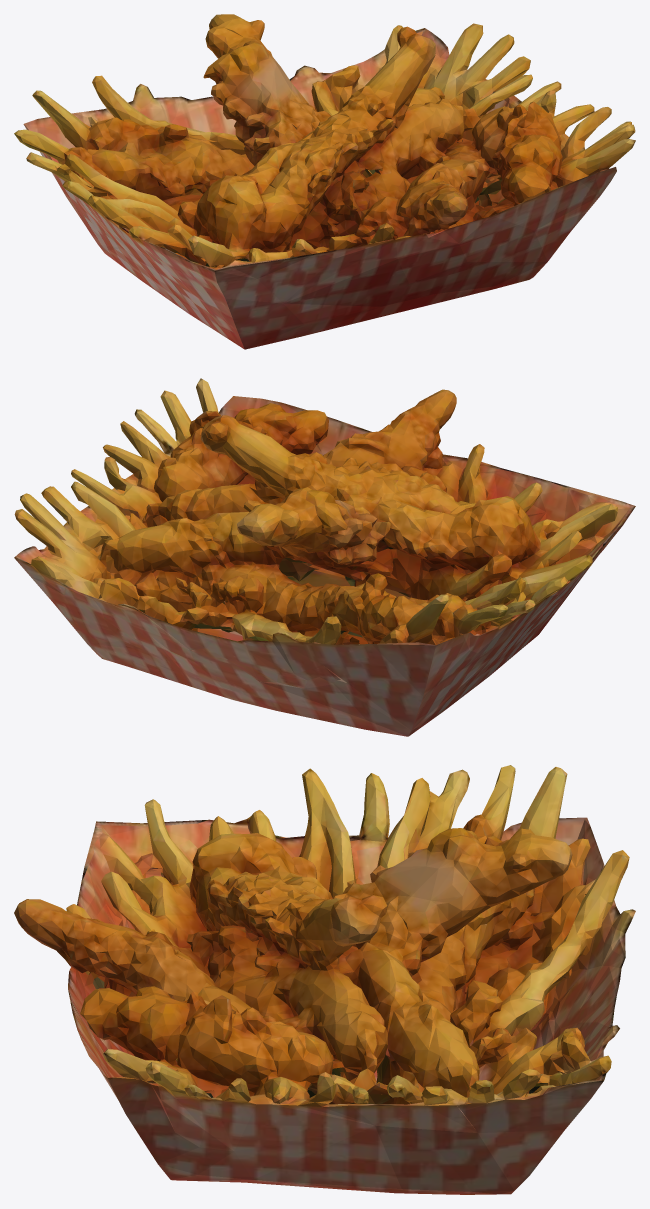
Rendered from p_strips.glb.
3 renders of one model, top to bottom at view 1: azimuth 30°, elevation 25°; view 2: azimuth 150°, elevation 25°; view 3: azimuth 270°, elevation 25°, orthographic. The views are drawn at different scales.
Visible parts, largest first — view 1: geometry_0; view 2: geometry_0; view 3: geometry_0.
Boxes of the visible parts, left/top/right/bottom form: geometry_0: left=14, top=14, right=635, bottom=349; geometry_0: left=14, top=378, right=635, bottom=736; geometry_0: left=14, top=765, right=635, bottom=1194.
Size of the model in its own units: 0.9982 by 0.4008 by 0.8514.
1 material, 1 textured.
